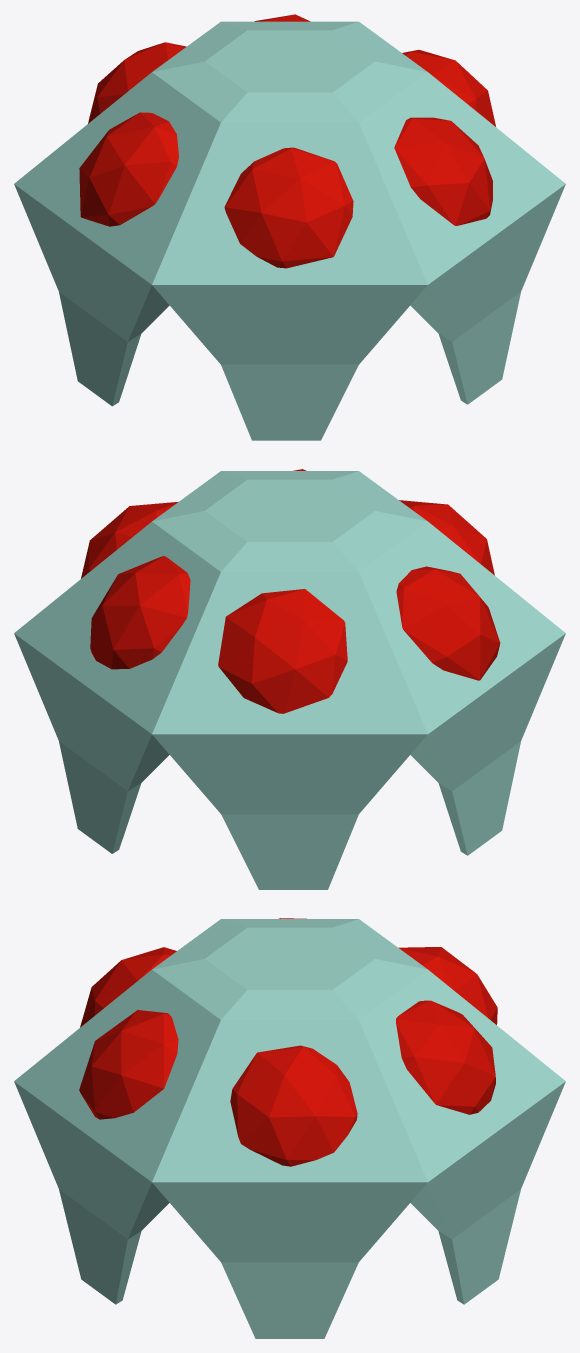
Rendered from spaceBot.fbx.
The picture shows the model from 3 angles, top to bottom: view 1: azimuth 30°, elevation 25°; view 2: azimuth 150°, elevation 25°; view 3: azimuth 270°, elevation 25°; orthographic projection.
Parts seen in each view (by area): view 1: Body, Icosphere.005, Icosphere.004, Icosphere, Icosphere.003, Icosphere.001; view 2: Body, Icosphere.003, Icosphere.004, Icosphere.002, Icosphere.001, Icosphere.005; view 3: Body, Icosphere.001, Icosphere.002, Icosphere, Icosphere.003, Icosphere.005.
Part boxes in pixels (bbox=[...]): Body: bbox=[14, 21, 565, 440]; Icosphere.005: bbox=[224, 147, 353, 268]; Icosphere.004: bbox=[79, 112, 178, 226]; Icosphere: bbox=[394, 117, 492, 225]; Icosphere.003: bbox=[88, 42, 186, 123]; Icosphere.001: bbox=[402, 49, 495, 126]; Body: bbox=[14, 471, 565, 889]; Icosphere.003: bbox=[218, 589, 347, 713]; Icosphere.004: bbox=[396, 566, 500, 680]; Icosphere.002: bbox=[90, 556, 190, 669]; Icosphere.001: bbox=[81, 501, 178, 578]; Icosphere.005: bbox=[399, 500, 494, 575]; Body: bbox=[14, 919, 565, 1338]; Icosphere.001: bbox=[230, 1045, 357, 1166]; Icosphere.002: bbox=[396, 1000, 495, 1114]; Icosphere: bbox=[79, 1010, 178, 1119]; Icosphere.003: bbox=[398, 947, 497, 1024]; Icosphere.005: bbox=[80, 947, 176, 1027].
Bounding box in the file's own units: 561 × 370 × 648.
